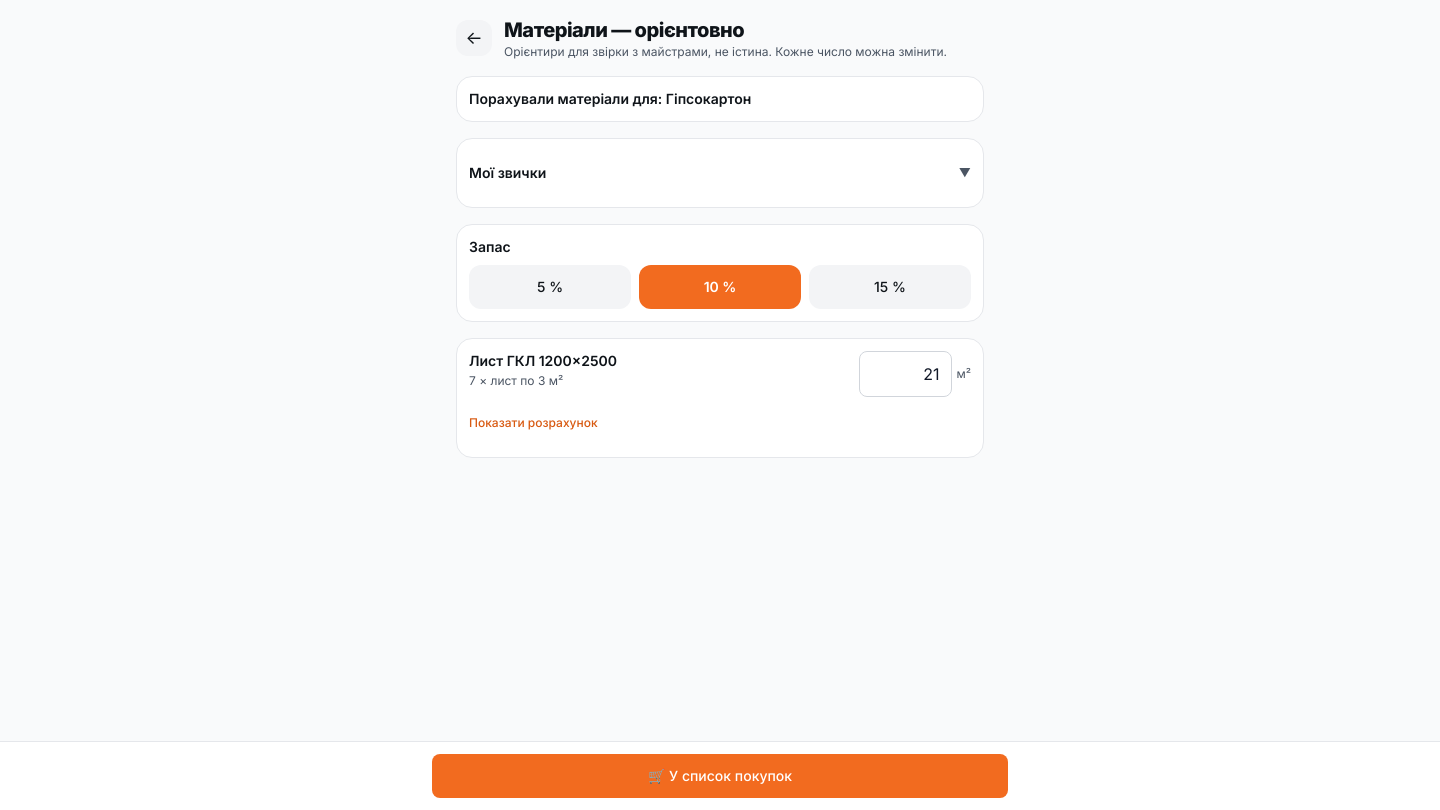
Test case: MaterialCalculatorPage › shows each row its own arithmetic
The width and height of the screenshot is (1440, 810).
Click the button "Показати розрахунок" at (533, 423), box [469,401,598,445]
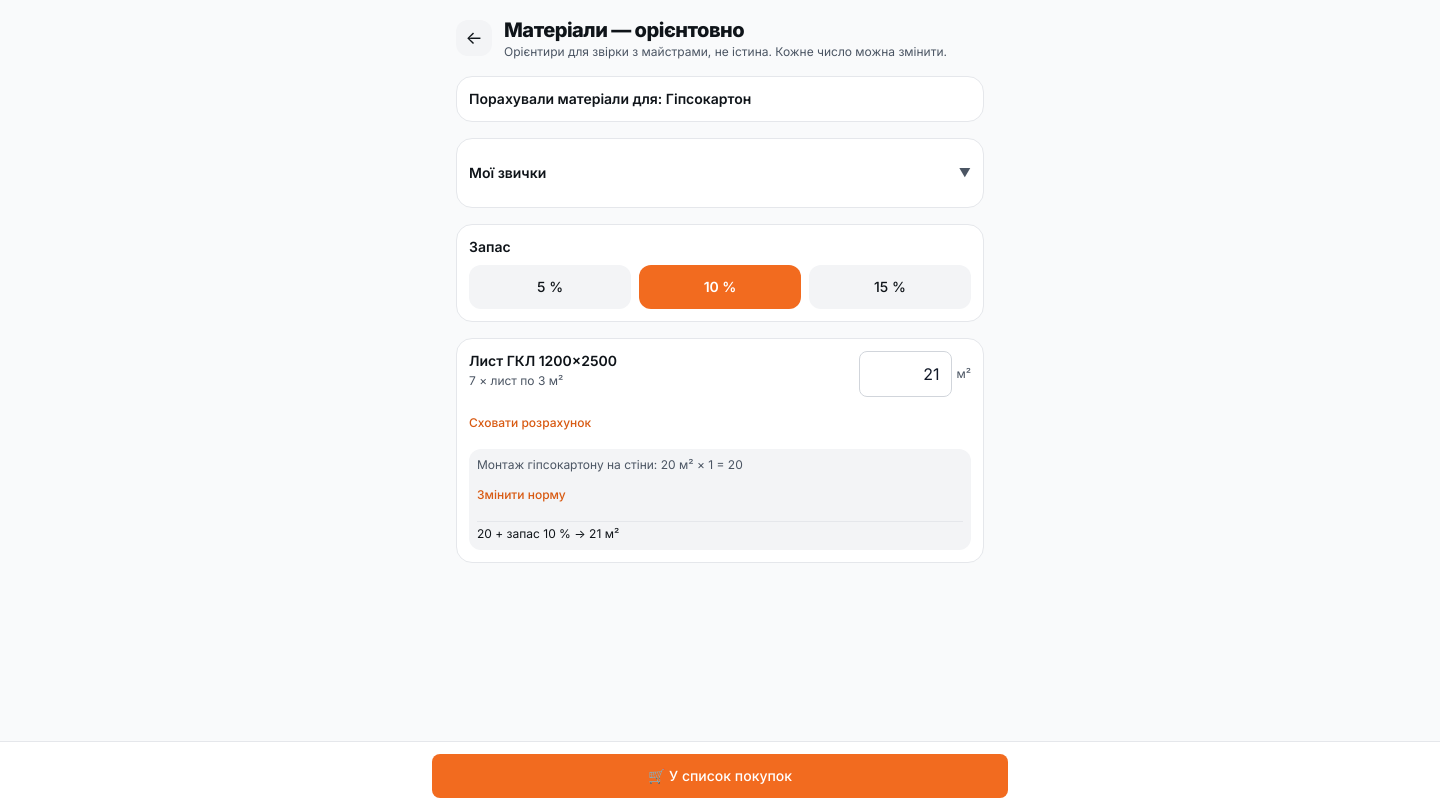
Check: the text "Монтаж гіпсокартону на стіни: 20 м² × 1 = 20" is shown, box [477,457,743,472]
Check: the text "20 + запас 10 % → 21 м²" is shown, box [477,521,963,542]
